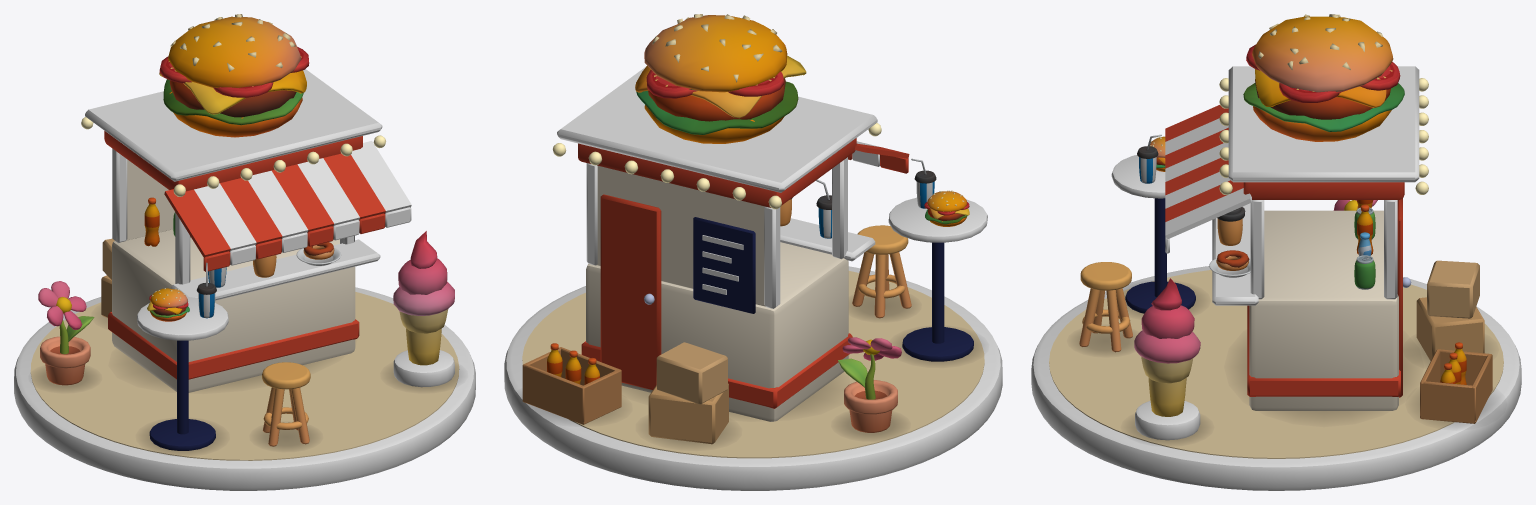
File: kiosk.glb
The picture shows the model from 3 angles, left to right: view 1: azimuth 30°, elevation 25°; view 2: azimuth 150°, elevation 25°; view 3: azimuth 270°, elevation 25°; orthographic projection. The views are drawn at different scales.
Parts seen in each view (by area): view 1: matte, shadow, glow; view 2: matte, shadow, glow; view 3: matte, shadow, glow.
Part boxes in pixels (left/top/right/bottom): matte: left=14, top=14, right=475, bottom=490; shadow: left=37, top=317, right=459, bottom=452; glow: left=81, top=117, right=385, bottom=196; matte: left=504, top=14, right=1002, bottom=490; shadow: left=526, top=296, right=978, bottom=445; glow: left=552, top=123, right=881, bottom=209; matte: left=1031, top=14, right=1521, bottom=490; shadow: left=1076, top=291, right=1495, bottom=442; glow: left=1219, top=78, right=1428, bottom=194.
Size of the model in its own units: 3.6 by 3.01 by 3.6.
